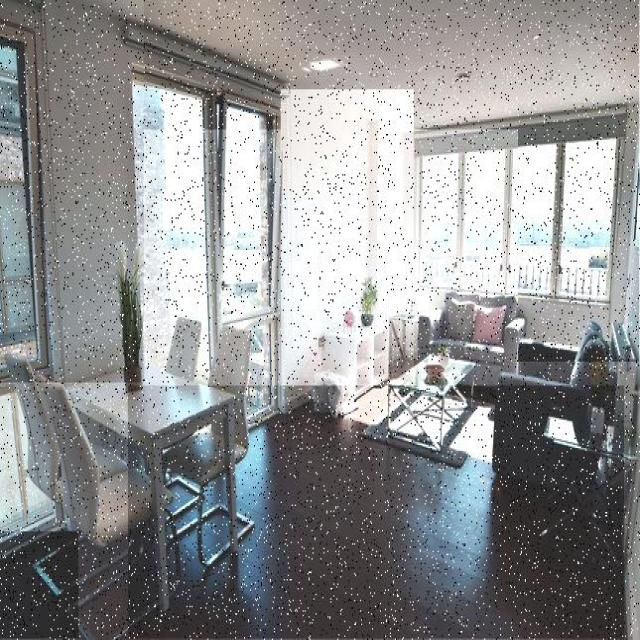Wall: (129, 386, 624, 639), (83, 1, 640, 129), (1, 0, 144, 383), (281, 90, 414, 414), (519, 104, 639, 360), (0, 532, 78, 639)
